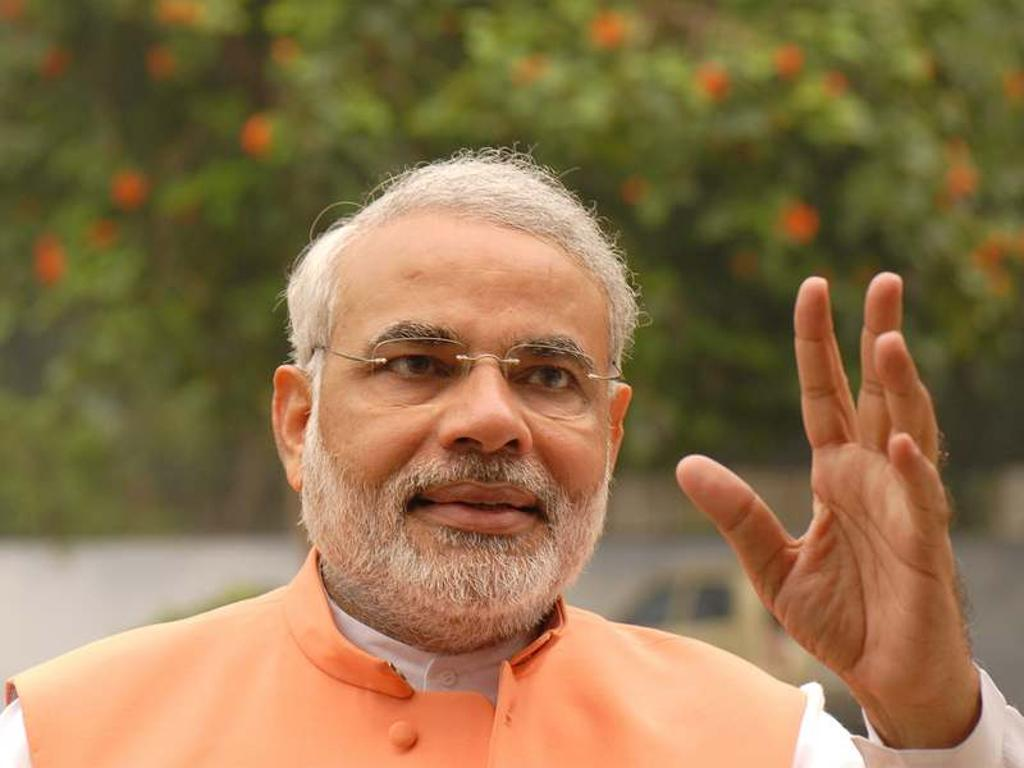face: (314, 216, 614, 622)
